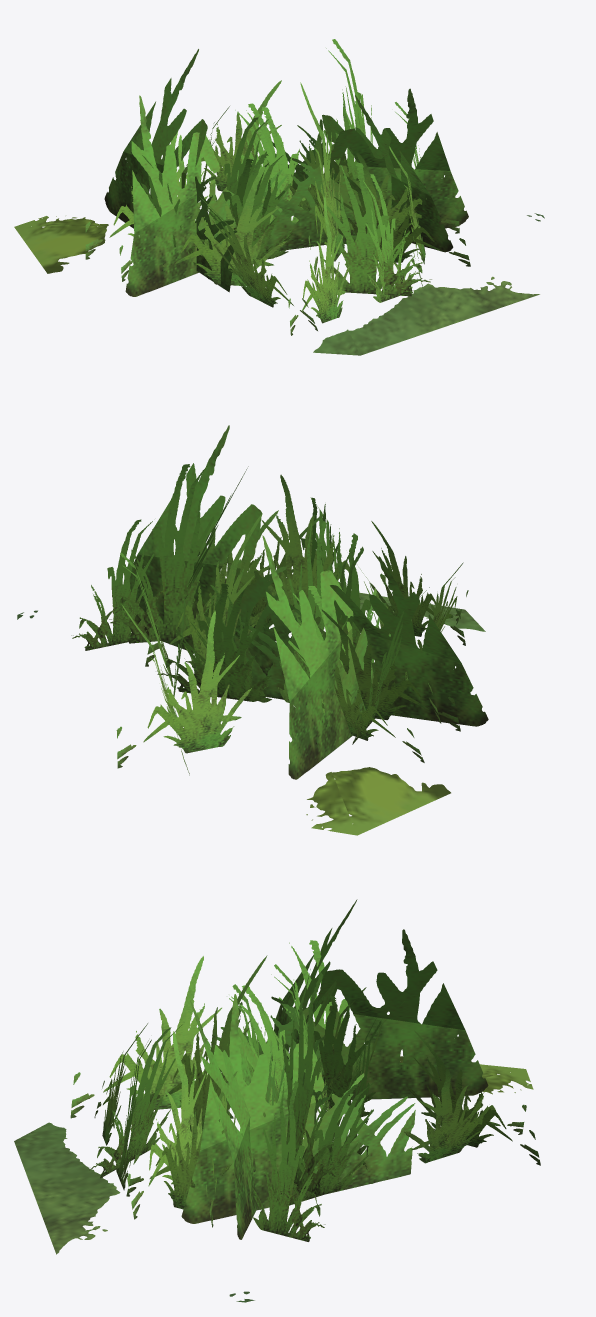
The model's file is Groupe_Herbe_04.fbx.
The picture shows the model from 3 angles, top to bottom: view 1: azimuth 30°, elevation 25°; view 2: azimuth 150°, elevation 25°; view 3: azimuth 270°, elevation 25°; orthographic projection. The views are drawn at different scales.
Parts seen in each view (by area): view 1: Groupe_Herbe_04; view 2: Groupe_Herbe_04; view 3: Groupe_Herbe_04.
Part boxes in pixels (box(x1,y1,x2,y2)): Groupe_Herbe_04: box(14, 39, 544, 355); Groupe_Herbe_04: box(17, 425, 488, 835); Groupe_Herbe_04: box(14, 899, 540, 1302).
Bounding box in the file's own units: 2.13 × 0.9576 × 1.93.
